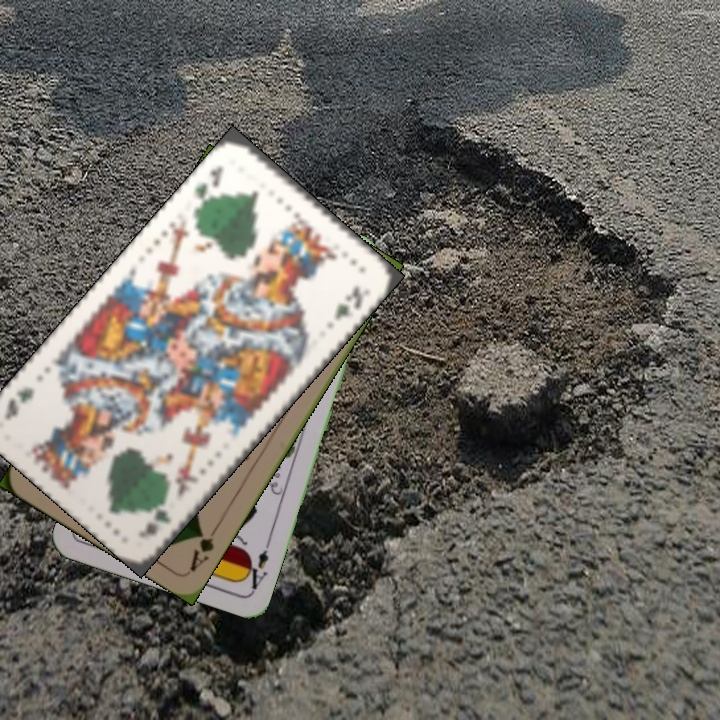EA: (240, 535, 274, 594)
GA: (185, 520, 222, 575)
GK: (133, 494, 173, 541), (190, 161, 227, 209)
